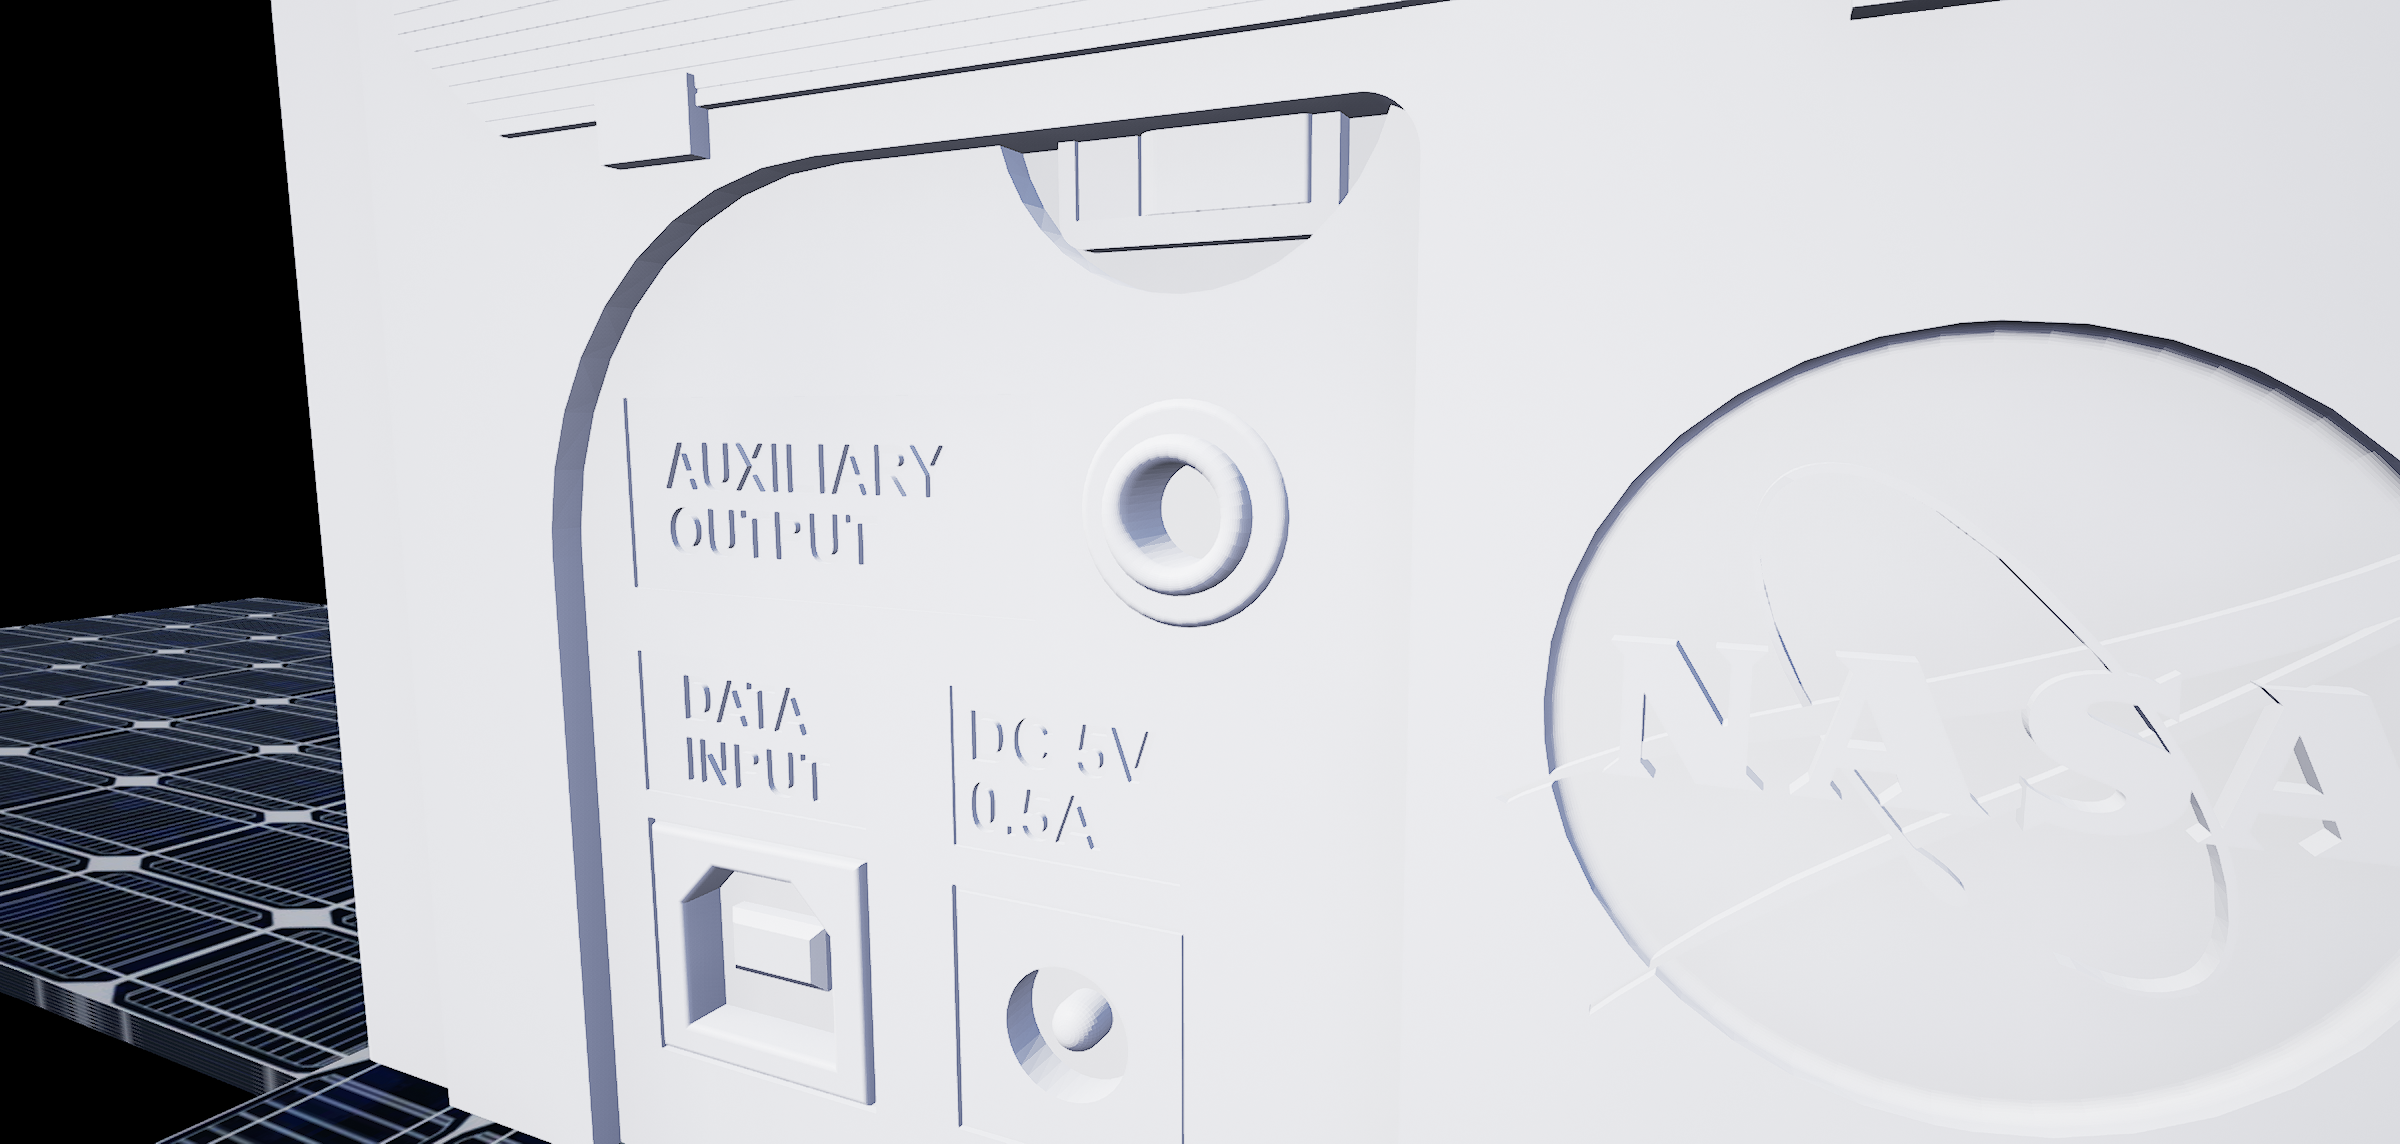aux: (1068, 384, 1309, 651)
dc: (990, 956, 1149, 1124)
usb: (670, 845, 853, 1083)
